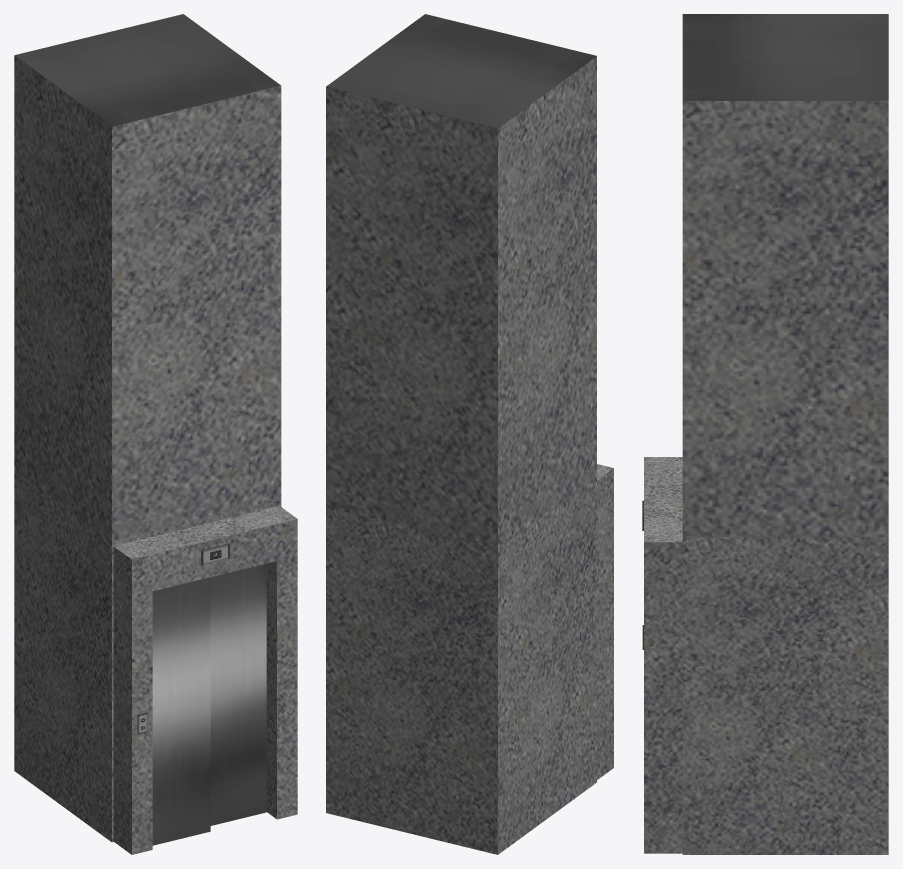
The model's file is elevator.fbx.
3 views of the same model, side by side, from view 1: azimuth 30°, elevation 25°; view 2: azimuth 150°, elevation 25°; view 3: azimuth 270°, elevation 25° (orthographic). The views are drawn at different scales.
Visible parts, largest first — view 1: Cube, Cube.001, Cube.003, Cube.002; view 2: Cube, Cube.001; view 3: Cube, Cube.001.
Boxes of the visible parts, x1=… form: Cube: x1=14, y1=14, x2=281, y2=842; Cube.001: x1=113, y1=506, x2=297, y2=854; Cube.003: x1=152, y1=577, x2=210, y2=845; Cube.002: x1=210, y1=563, x2=266, y2=825; Cube: x1=326, y1=14, x2=596, y2=854; Cube.001: x1=597, y1=464, x2=613, y2=779; Cube: x1=682, y1=14, x2=888, y2=854; Cube.001: x1=644, y1=457, x2=682, y2=853.
Size of the model in its own units: 535 by 2162 by 639.
3 materials, 3 textured.
